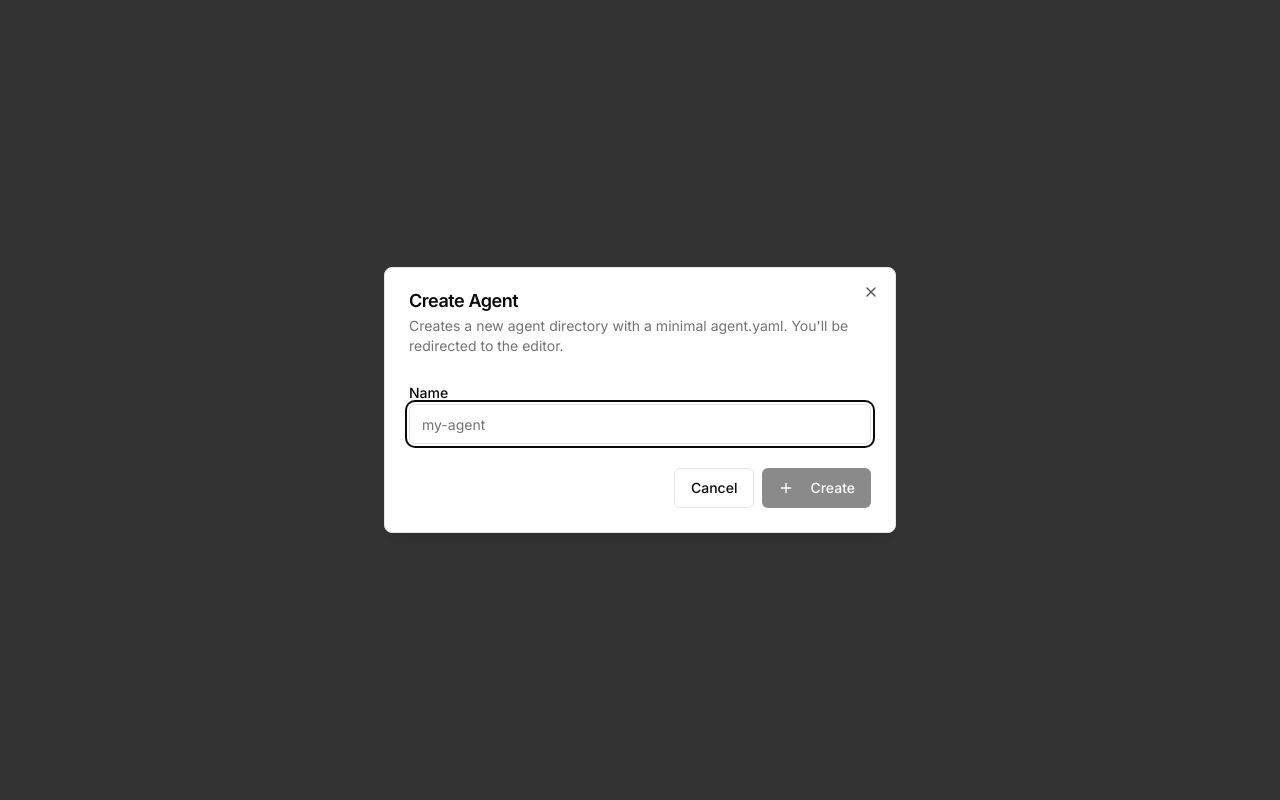
Scenario: NewAgentDialog create › clears the validation error once the name is edited
The image size is (1280, 800).
Type "bad name" into the field labelled "Name" at (640,424), box [409, 404, 871, 444]
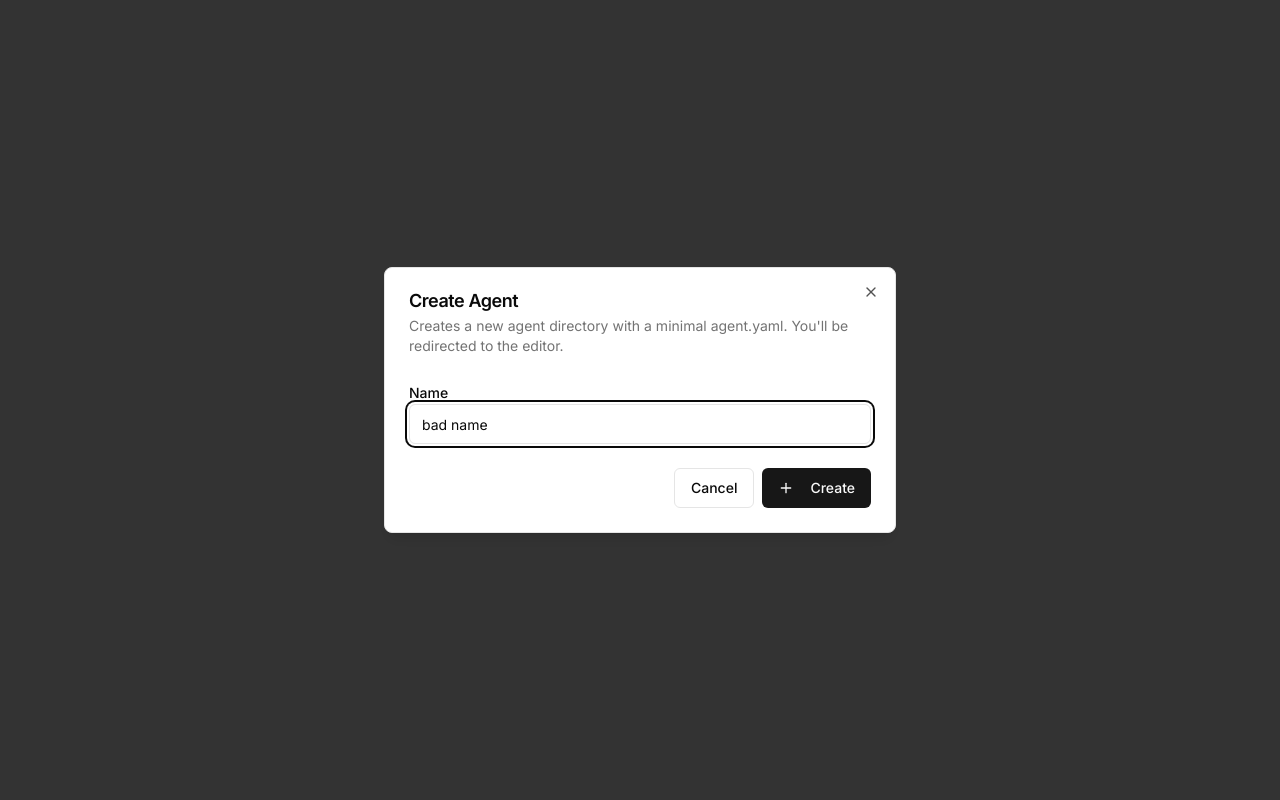
Click the button "Create" at (817,488), box [762, 468, 871, 508]
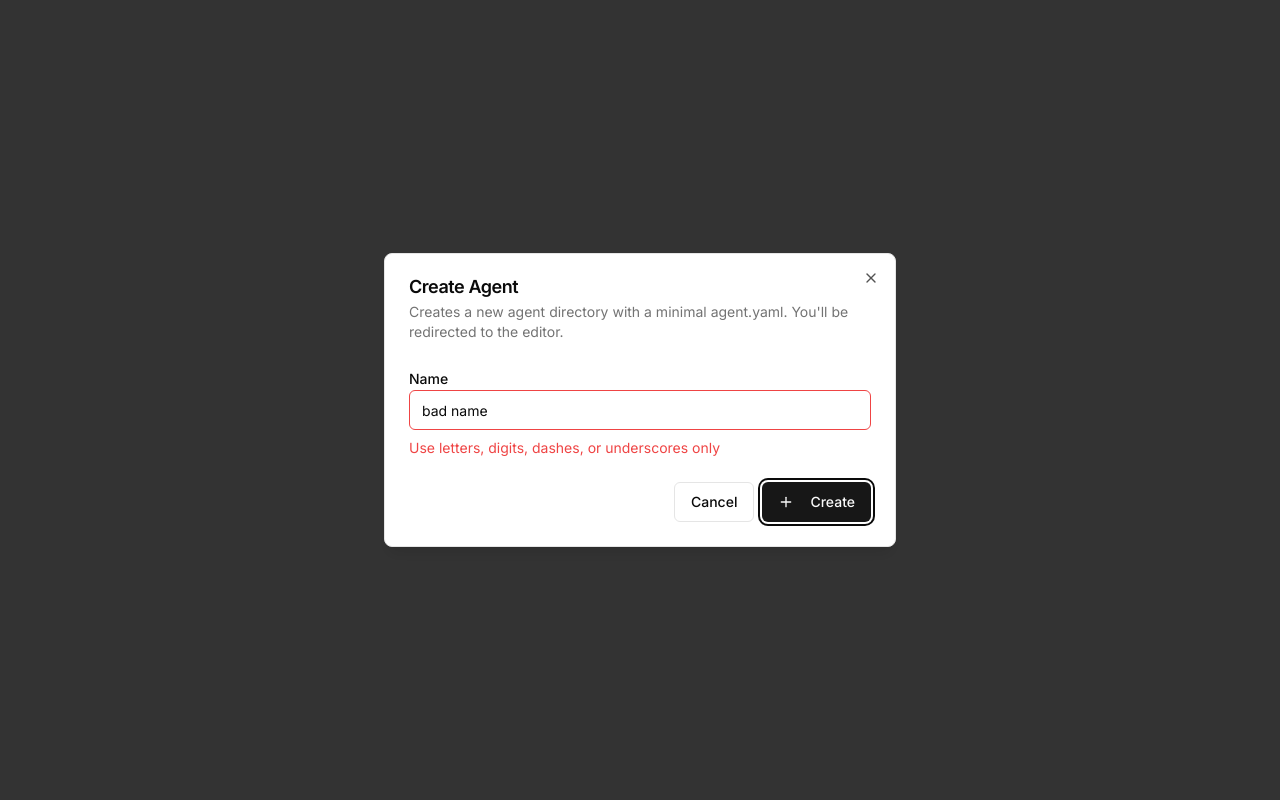
Type "x" into the field labelled "Name" at (640,410), box [409, 390, 871, 430]
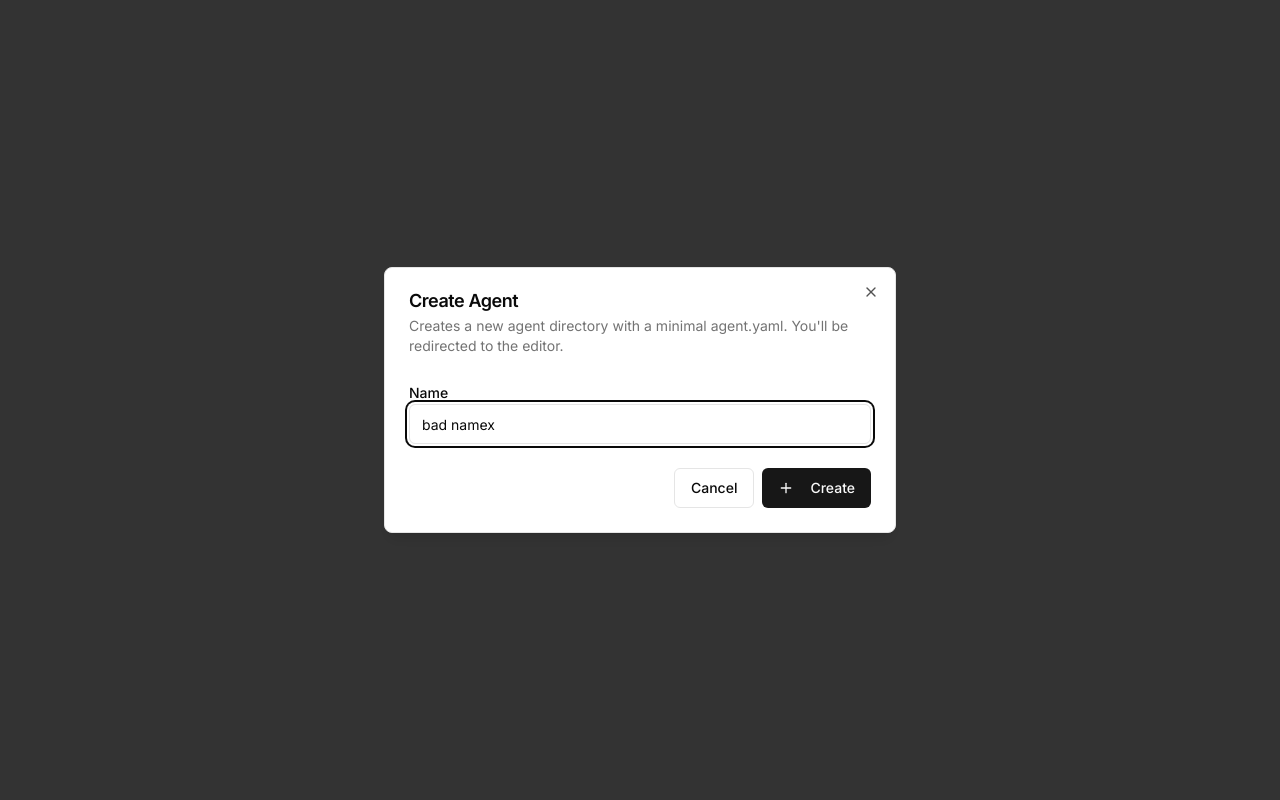
Check: the text "letters, digits, dashes, or underscores" is gone
